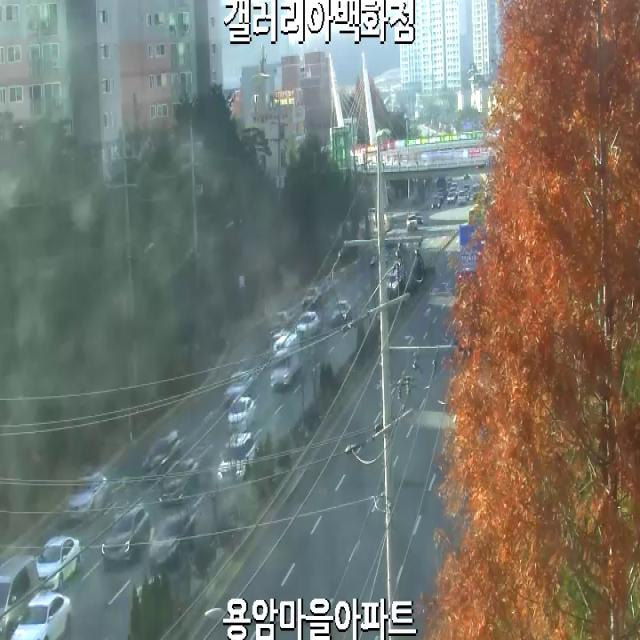Car: (0, 554, 41, 640), (9, 590, 72, 640), (102, 506, 151, 564), (150, 514, 194, 571), (36, 534, 80, 590), (217, 432, 260, 481), (160, 458, 199, 509), (142, 431, 183, 478), (68, 472, 108, 520), (271, 333, 301, 390), (227, 397, 257, 432), (224, 372, 254, 404), (296, 312, 320, 338), (332, 300, 352, 325), (302, 287, 321, 311)
